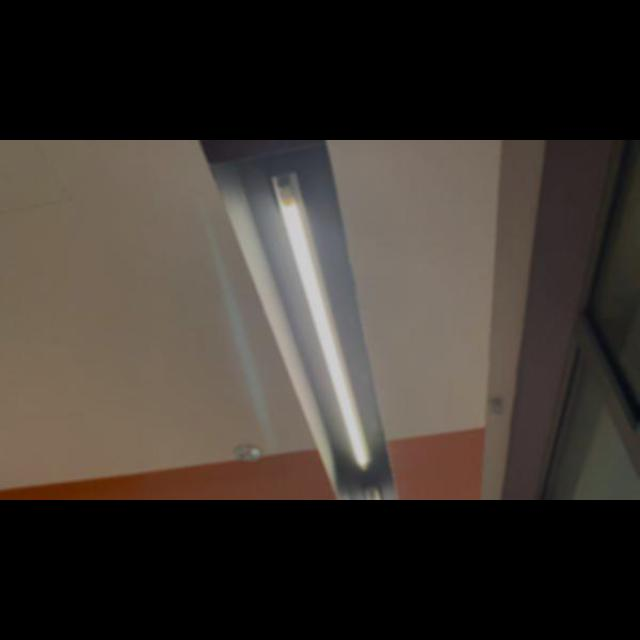Straight-Tube-Fluorescent-Lamp: (260, 160, 378, 480)
